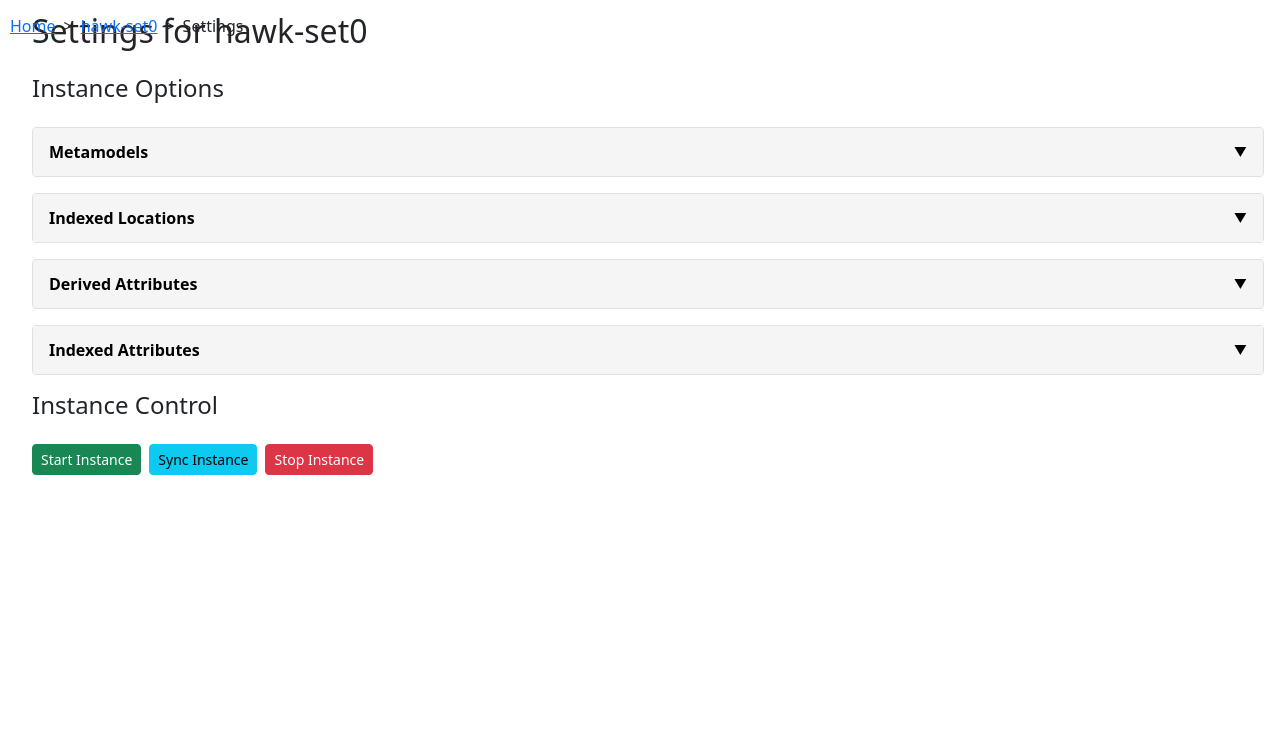
Test: SettingsContent › deletes indexed attribute from the instance
What coordinates should you click on to do the following:
click the button "Indexed Attributes ▼"
I would click on:
 (124, 350)
Its box is [33,326,1263,374].
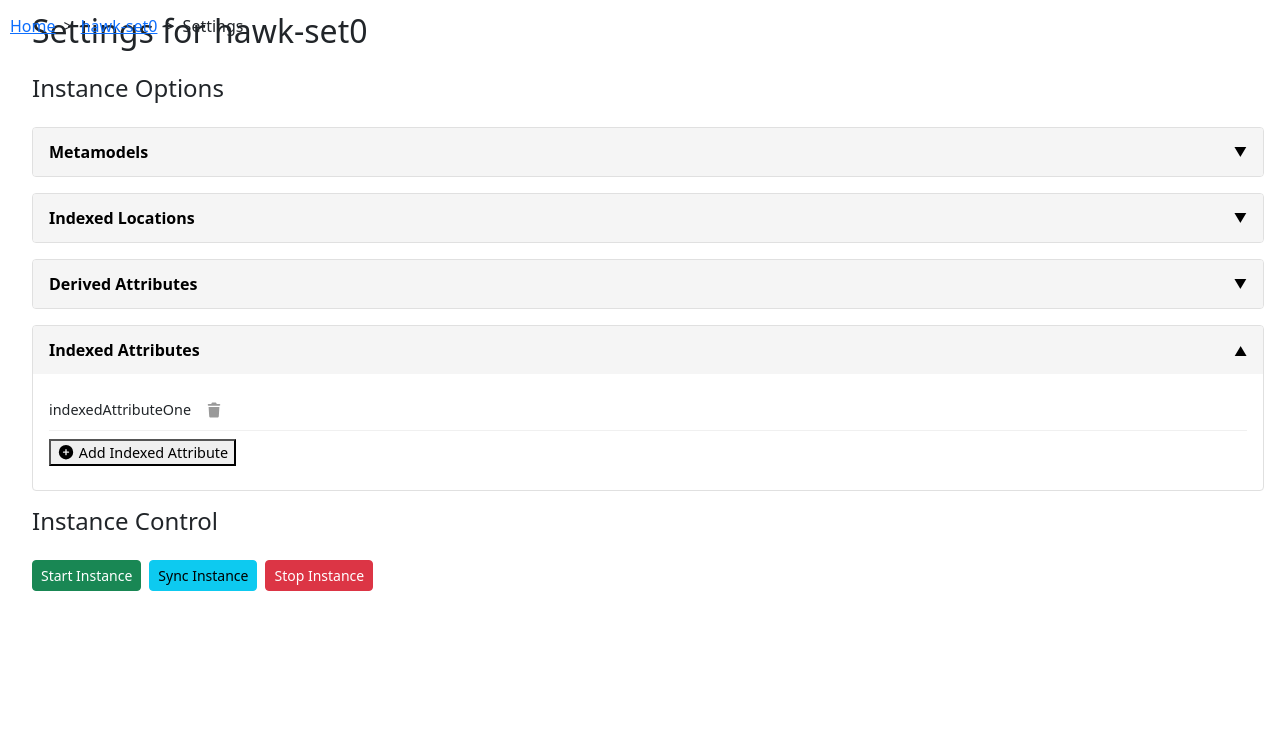
Check: the text "indexedAttributeOne" is shown, box [49,400,191,419]
Check: the button named "Delete Indexed Attribute" is shown
What coordinates should you click on to do the following:
click the button named "Delete Indexed Attribute"
I would click on:
 (214, 410)
Its box is [199,398,229,422].
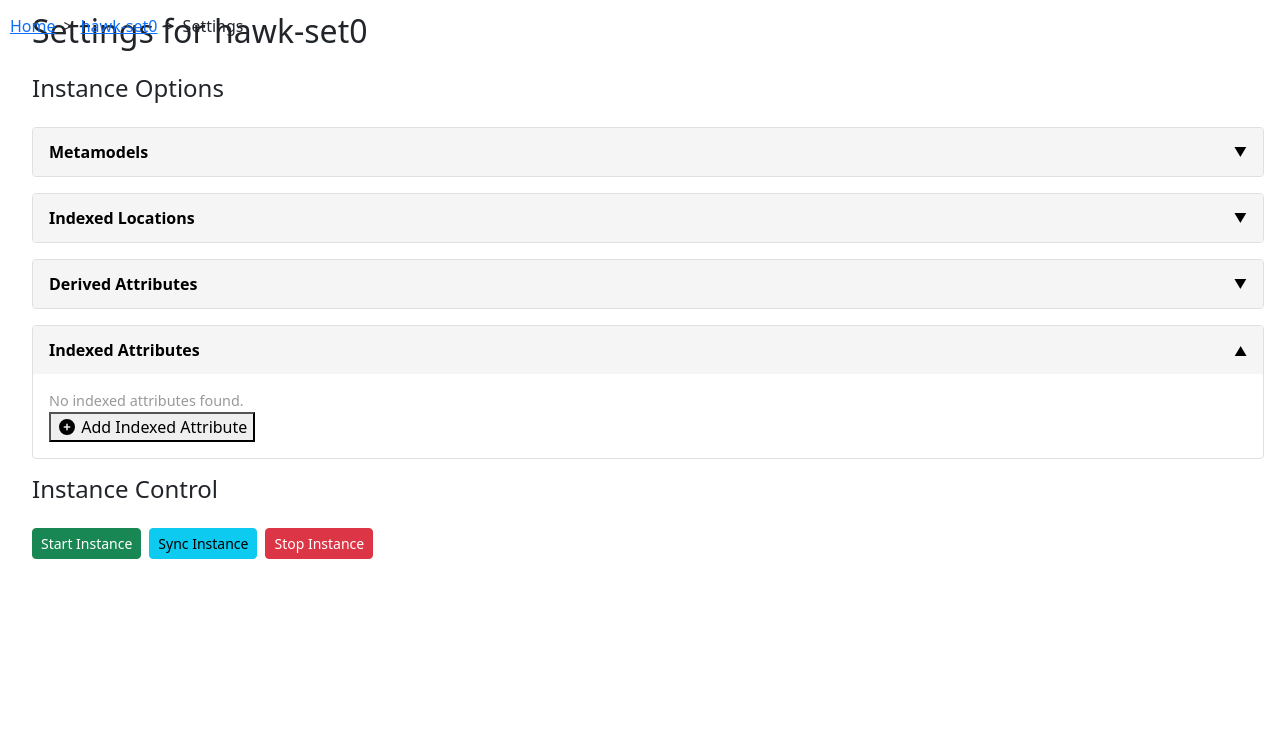
Check: the text "No indexed attributes found." is shown, box [49,391,244,410]
